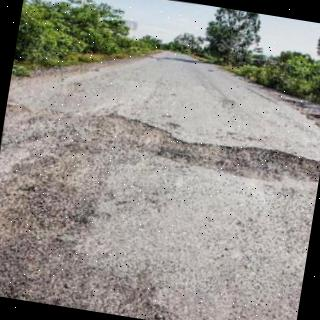pothole: (105, 114, 320, 184)
